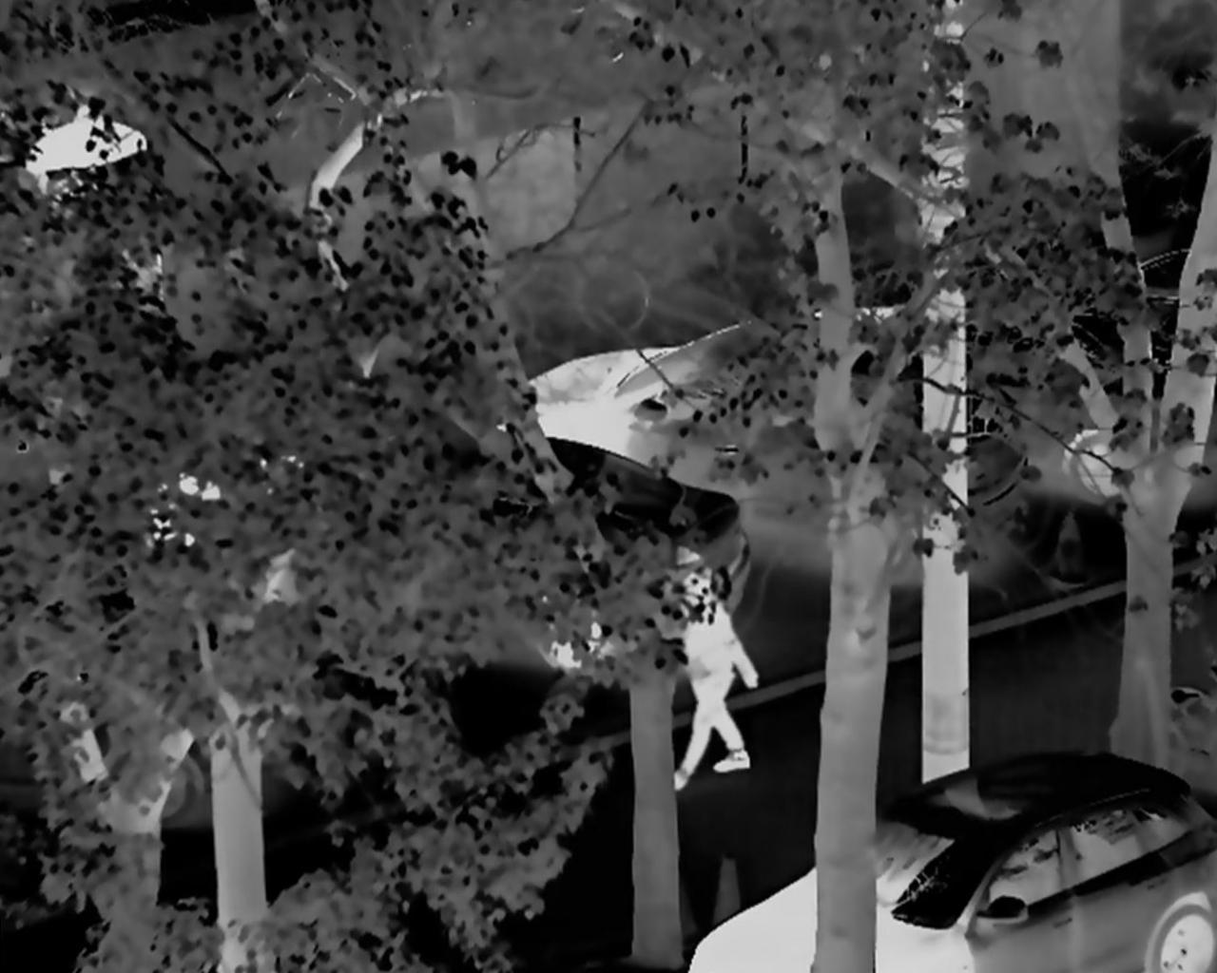person: (667, 592, 763, 801)
